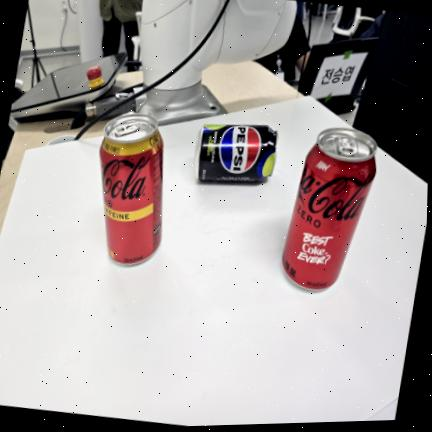can_coke_decaf: (99, 113, 163, 264)
can_coke_zero: (282, 127, 376, 290)
can_pepsi_zero: (194, 124, 277, 181)
